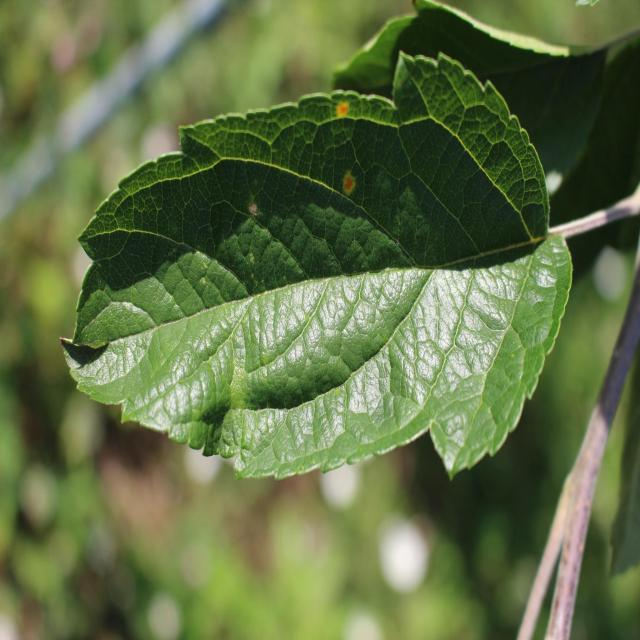Rust: (334, 163, 363, 204), (331, 90, 359, 126)
